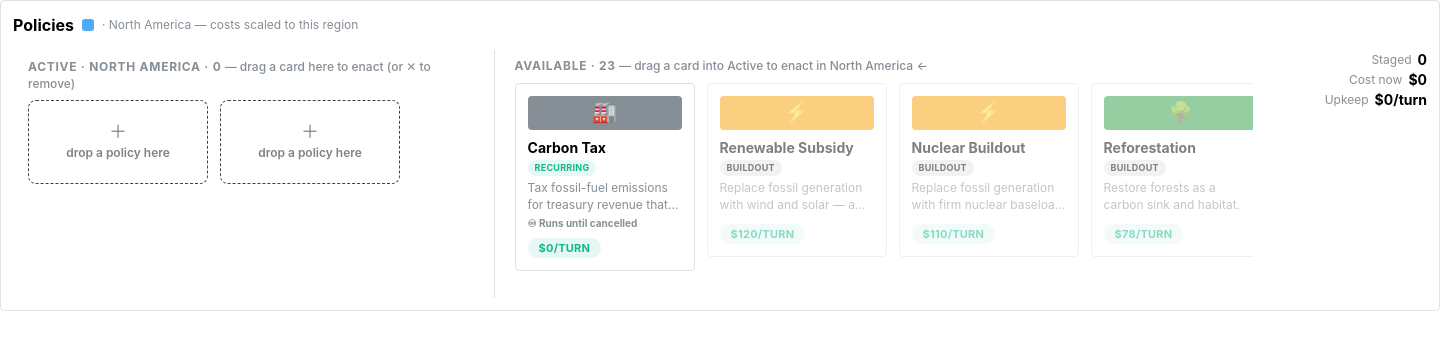
it: PolicyBoard › shows an error and does not enact when an unaffordable card is double-clicked
This screenshot has width=1440, height=358.
Double-click the button with aria-label "enact renewable subsidy" at {"x": 797, "y": 185}, box x1=707 y1=83 x2=887 y2=288
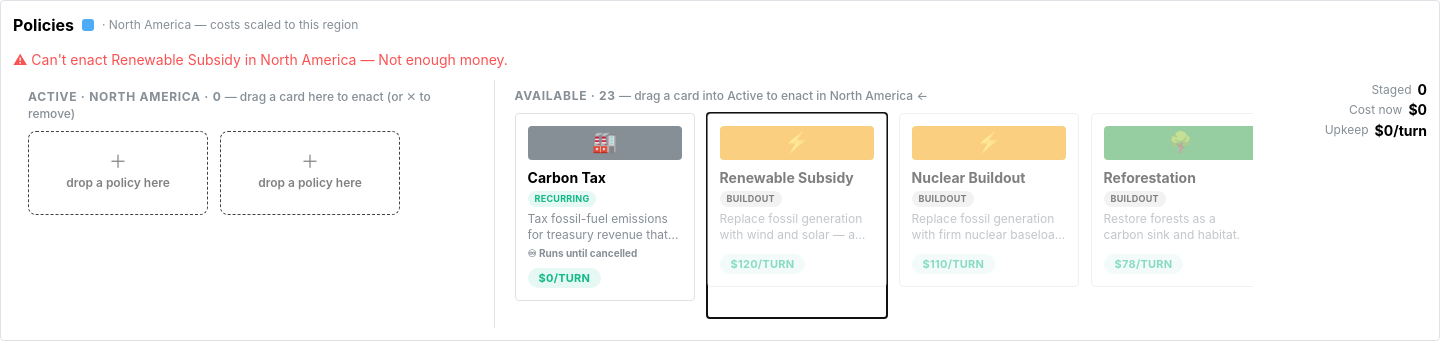
expect the message shows "Can't enact Renewable Subsidy": met, box x1=31 y1=51 x2=508 y2=68
